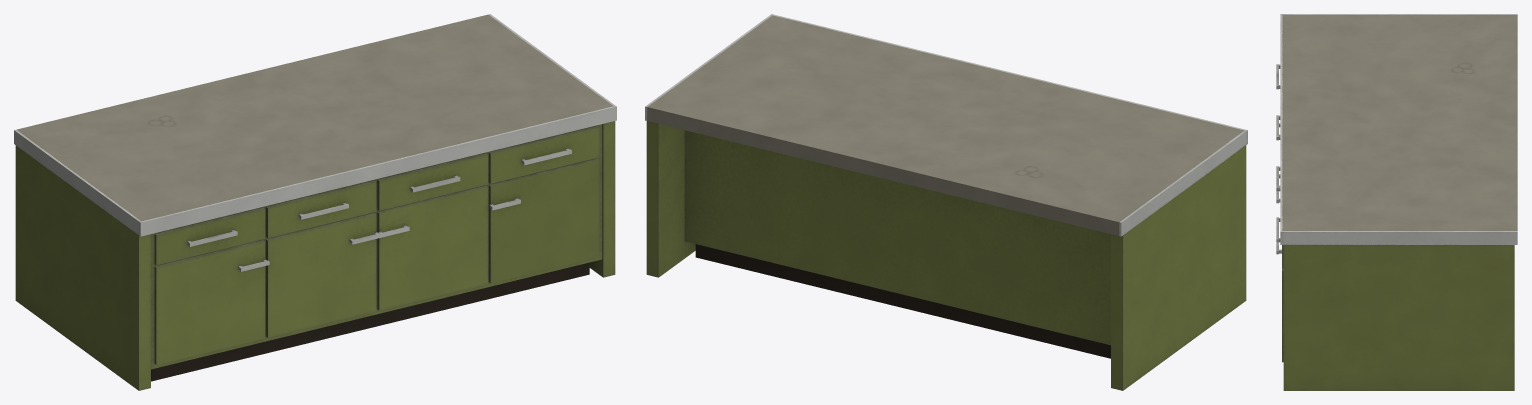
File: H_KitchenIsland.fbx
The picture shows the model from 3 angles, left to right: view 1: azimuth 30°, elevation 25°; view 2: azimuth 150°, elevation 25°; view 3: azimuth 270°, elevation 25°; orthographic projection. The views are drawn at different scales.
Parts seen in each view (by area): view 1: H_KitchenIsland; view 2: H_KitchenIsland; view 3: H_KitchenIsland.
Boxes of the visible parts, x1,y1,x2,y2 form: H_KitchenIsland: (14, 14, 616, 390); H_KitchenIsland: (645, 14, 1247, 390); H_KitchenIsland: (1276, 14, 1517, 390).
Bounding box in the file's own units: 1000 × 340 × 468.
1 material, 1 textured.
